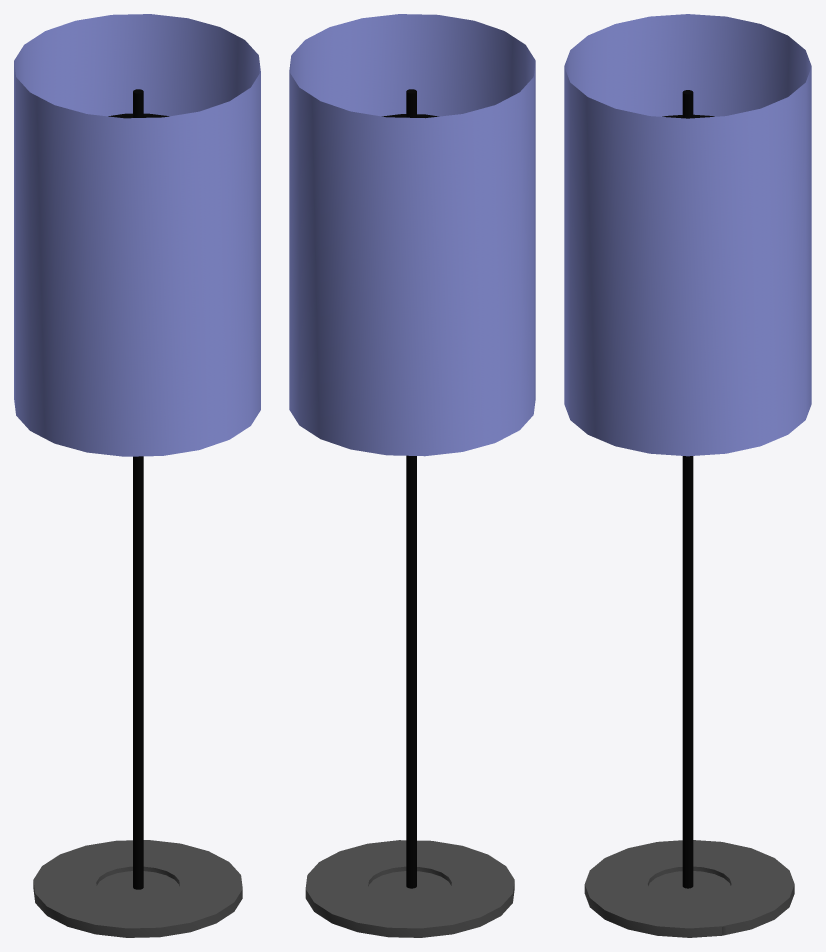
Rendered from Lamp_L.fbx.
The picture shows the model from 3 angles, left to right: view 1: azimuth 30°, elevation 25°; view 2: azimuth 150°, elevation 25°; view 3: azimuth 270°, elevation 25°; orthographic projection.
Parts seen in each view (by area): view 1: censor, Base, metal_stand; view 2: censor, Base, metal_stand; view 3: censor, Base, metal_stand.
Part boxes in pixels (x1,y1,x2,y2): censor: [14, 14, 260, 456]; Base: [33, 840, 242, 937]; metal_stand: [133, 89, 143, 889]; censor: [289, 14, 535, 456]; Base: [305, 840, 514, 937]; metal_stand: [406, 89, 416, 888]; censor: [564, 14, 811, 456]; Base: [584, 840, 794, 937]; metal_stand: [682, 90, 693, 888].
Bounding box in the file's own units: 23.58 × 86.87 × 23.58.
4 materials, 2 textured.
